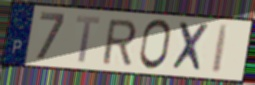7: (34, 10, 68, 63)
I: (210, 23, 231, 77)
O: (137, 18, 173, 72)
R: (100, 18, 139, 67)
T: (74, 14, 102, 65)
X: (170, 21, 211, 75)
